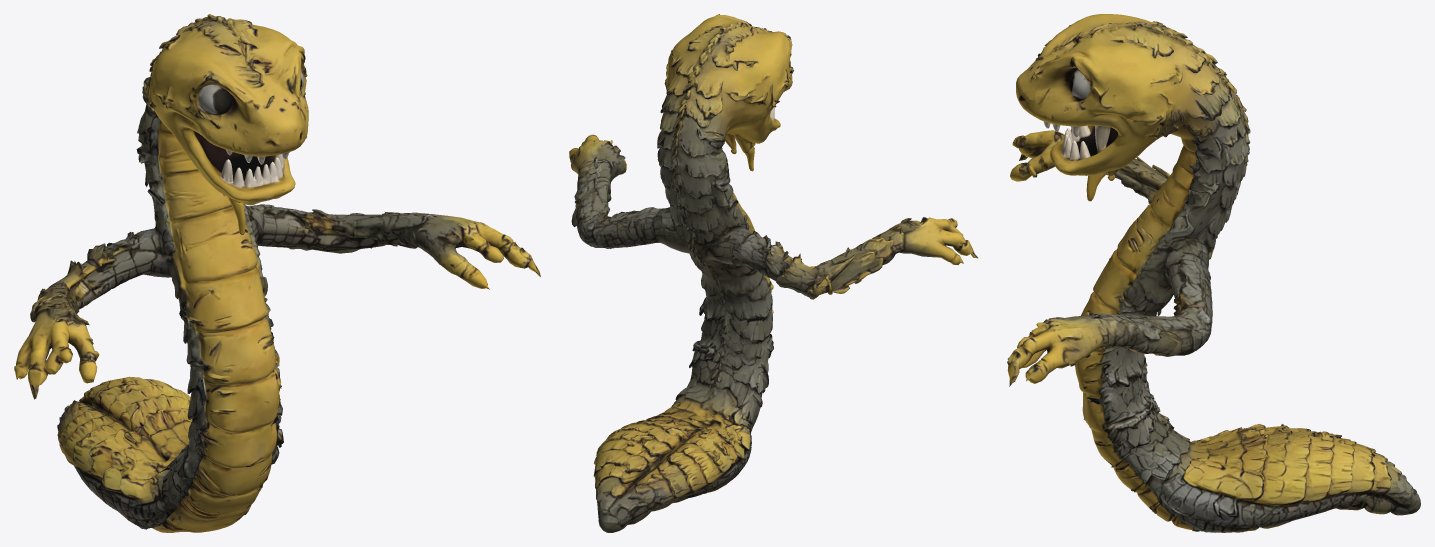
Rendered from pipe_organ_wyrm.glb.
3 renders of one model, left to right at view 1: azimuth 30°, elevation 25°; view 2: azimuth 150°, elevation 25°; view 3: azimuth 270°, elevation 25°, orthographic. The views are drawn at different scales.
Parts seen in each view (by area): view 1: tripo_node_e1152d40-bb17-409f-9eb6-4b7d99e31a74; view 2: tripo_node_e1152d40-bb17-409f-9eb6-4b7d99e31a74; view 3: tripo_node_e1152d40-bb17-409f-9eb6-4b7d99e31a74.
Boxes of the visible parts, x1=… form: tripo_node_e1152d40-bb17-409f-9eb6-4b7d99e31a74: x1=14, y1=14, x2=540, y2=532; tripo_node_e1152d40-bb17-409f-9eb6-4b7d99e31a74: x1=569, y1=14, x2=978, y2=532; tripo_node_e1152d40-bb17-409f-9eb6-4b7d99e31a74: x1=1007, y1=14, x2=1420, y2=532.
Size of the model in its own units: 0.9671 by 0.9793 by 0.7355.
Materials: 1 (1 with a texture image).
